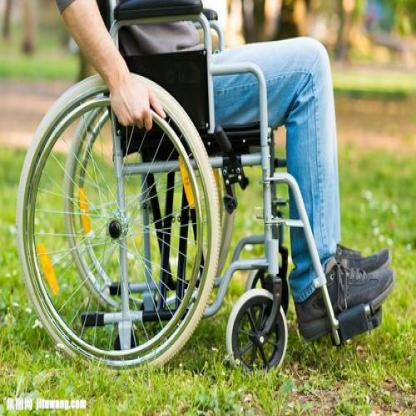wheelchair: (14, 0, 397, 365)
